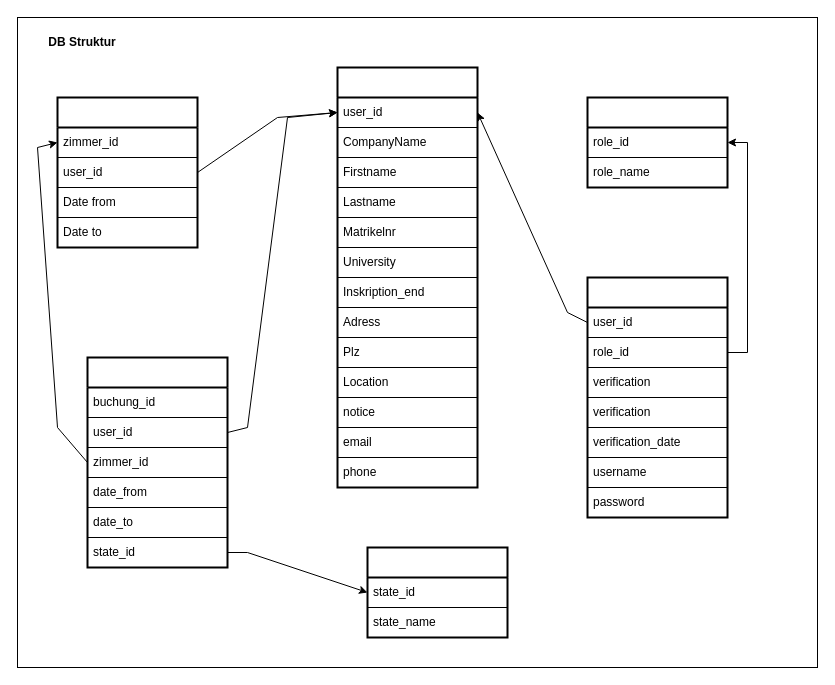
The diagram is 835 pixels wide and 685 high, and some of its shapes have lost their labels. The box of each missing label's shape, as (x1, y1, x2, y2) in pixels:
bpf_tbl_booking_state: (366, 546, 508, 638)
bpf_tbl_buchung: (86, 356, 228, 568)
bpf_tbl_rolle: (586, 96, 728, 188)
bpf_tbl_user: (586, 276, 728, 518)
bpf_tbl_user_details: (336, 66, 478, 488)
bpf_tbl_zimmer: (56, 96, 198, 248)
